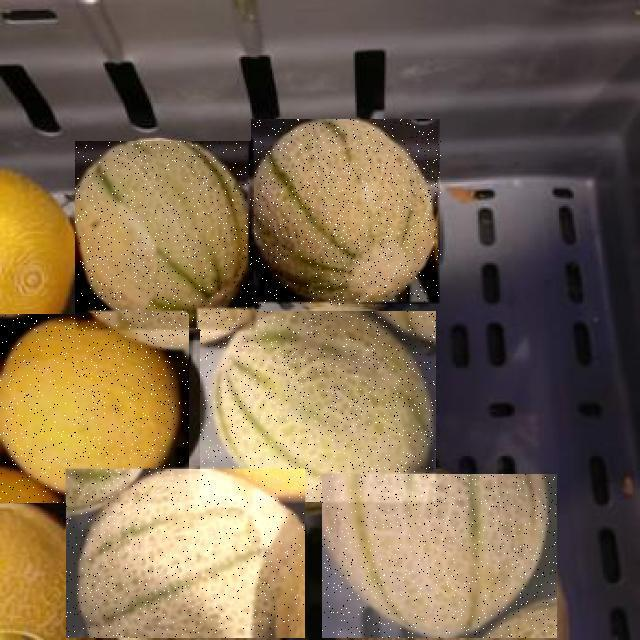Cantaloupe: (200, 311, 436, 502), (66, 469, 305, 638), (322, 475, 557, 639), (252, 120, 442, 306), (76, 142, 256, 330)
Galia: (0, 314, 189, 503)
